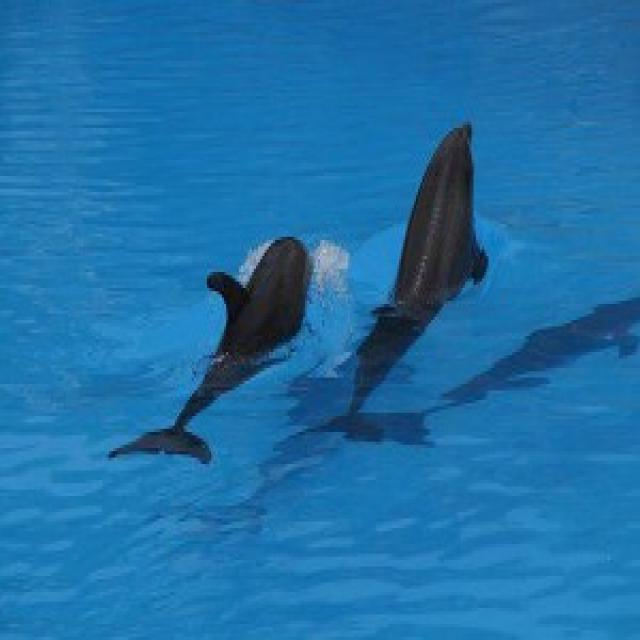Dolphin: (116, 224, 326, 475), (359, 99, 489, 437)
